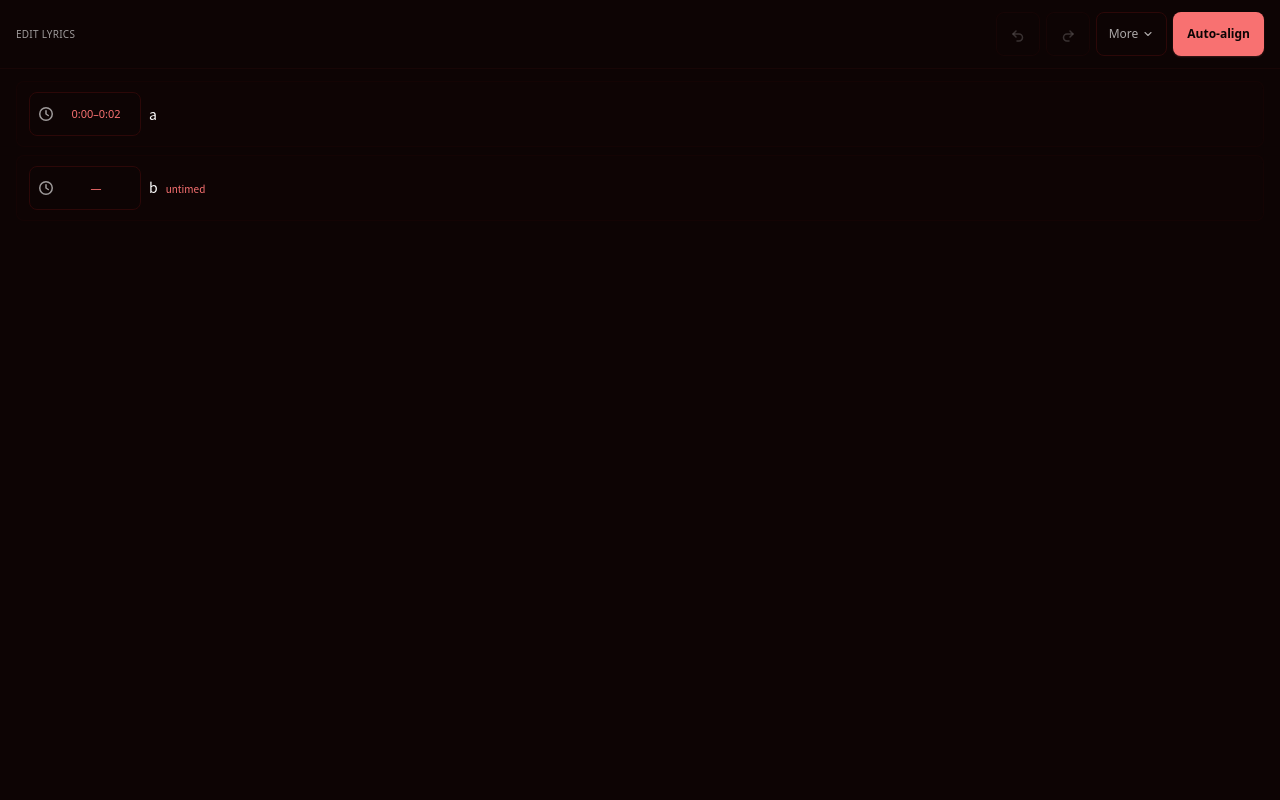
Test: EditMode › tapping another lyric cancels an open timestamp preview
Click the button named "edit timestamp for line 2". click: click(85, 188)
box: x1=29 y1=166 x2=141 y2=210
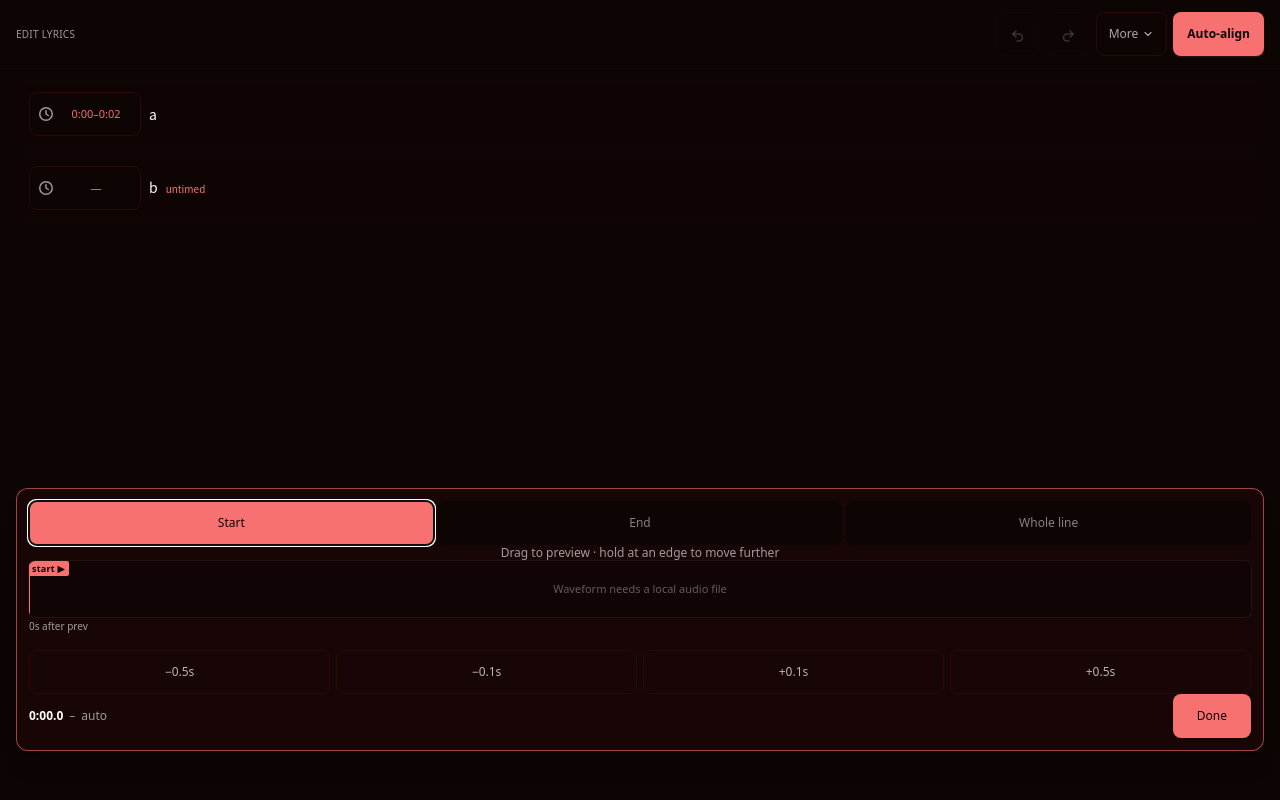
Set the slider named "Scrub start timestamp" to "9". click: (640, 589)
box: x1=29 y1=561 x2=1251 y2=617
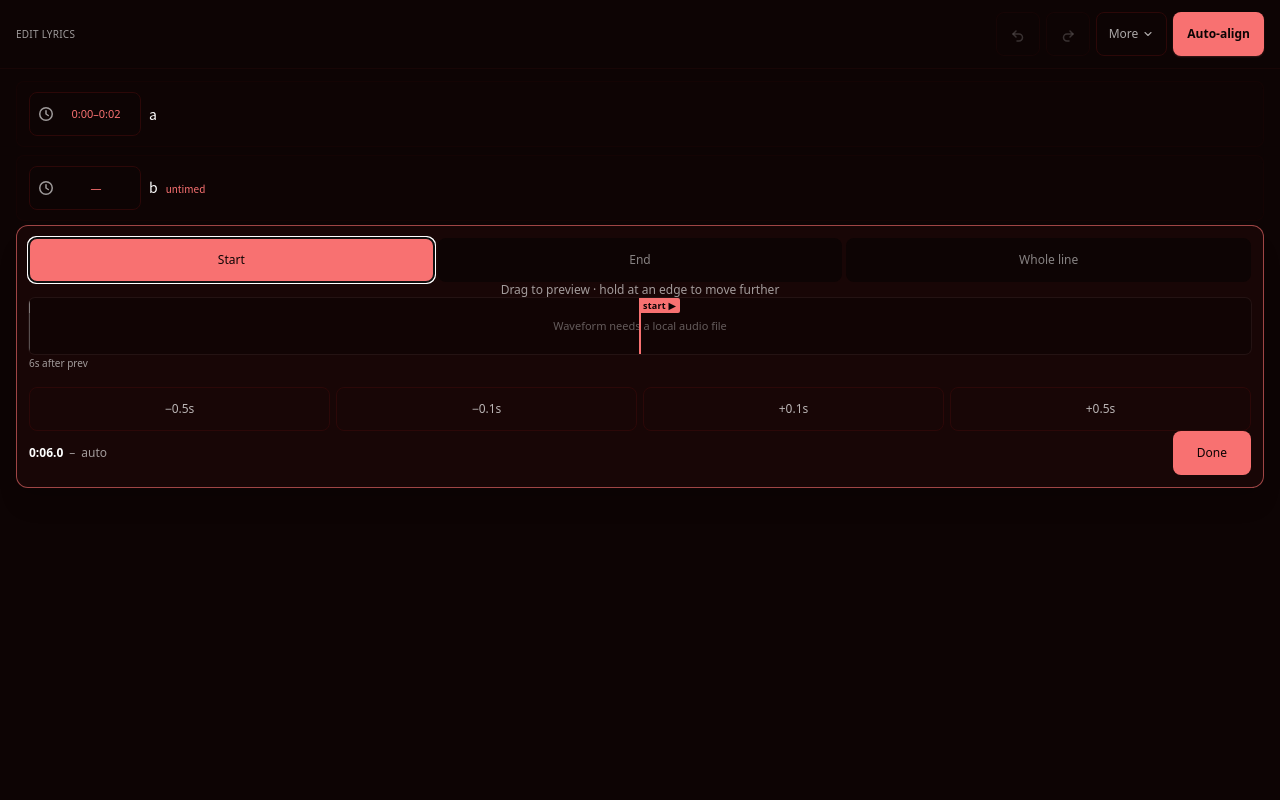
Click the button "a". click: click(153, 114)
box: x1=149 y1=104 x2=1243 y2=124
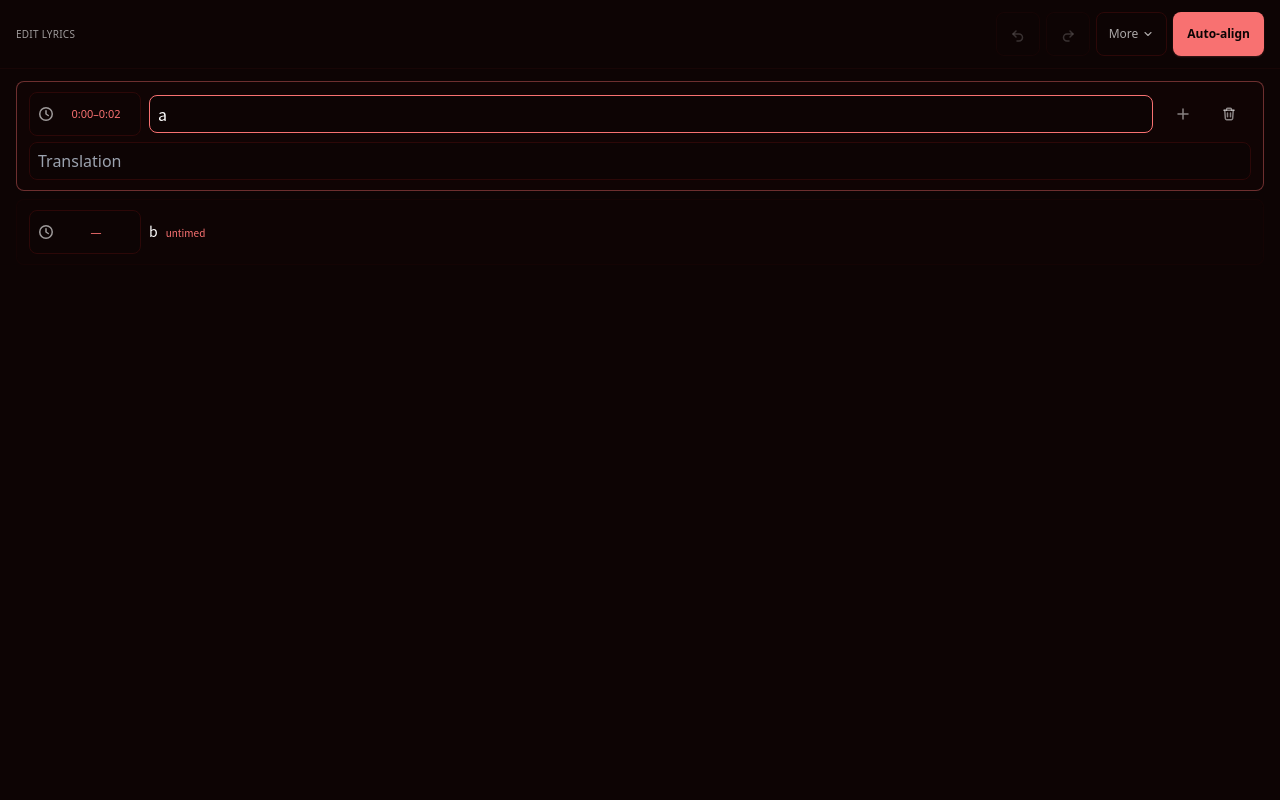
Result: the field named "Original text" is shown at x1=149 y1=95 x2=1153 y2=133
